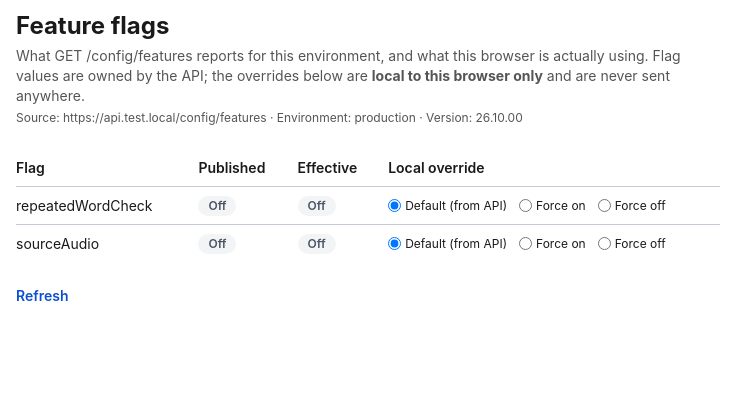
Test: FeatureFlagsDiagnostics — local override controls › forcing on diverges Effective from Published and marks the row overridden
Click the radio button with test id "flag-override-repeatedWordCheck-on".
click(526, 206)  # box [519, 199, 532, 212]
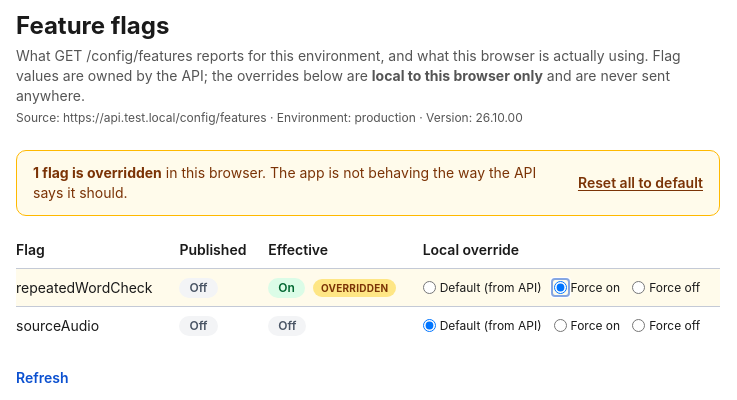
Expected: the text with test id "flag-state-repeatedWordCheck" reads "On", [278, 280, 295, 295]
Expected: the text "Overridden" is shown, [313, 279, 396, 297]
Expected: the element with test id "flags-override-banner" is shown, [16, 150, 720, 216]
